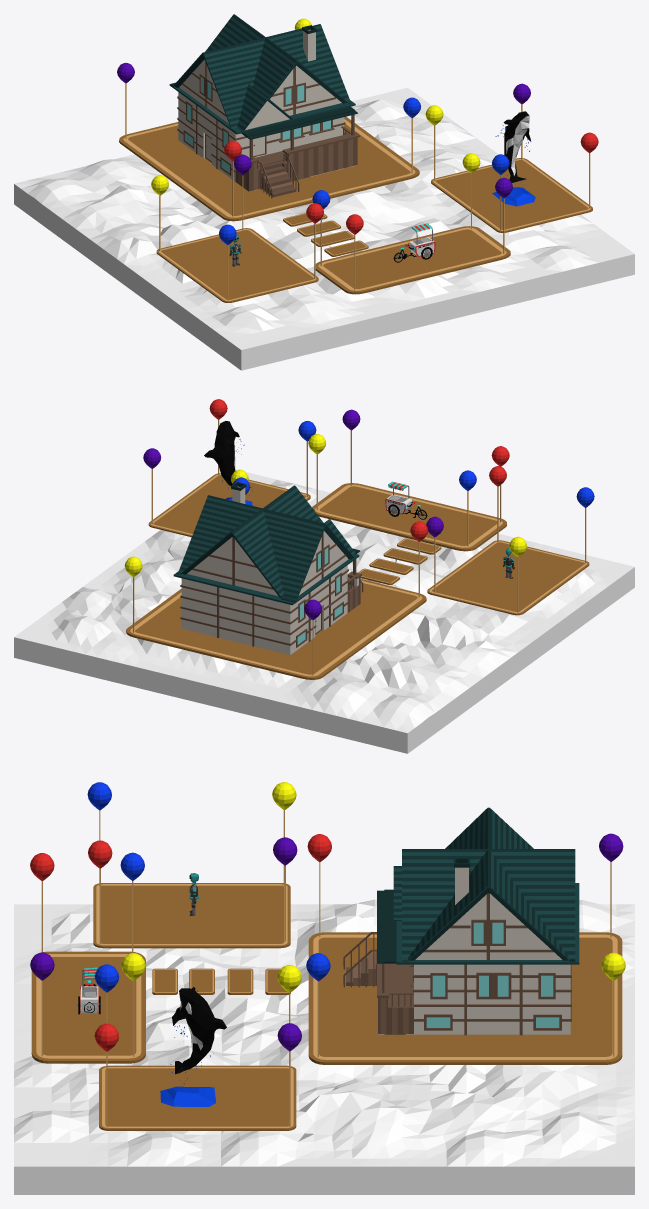
3 views of the same model, one above another, from view 1: azimuth 30°, elevation 25°; view 2: azimuth 150°, elevation 25°; view 3: azimuth 270°, elevation 25° (orthographic). The views are drawn at different scales.
Visible parts, largest first — view 1: Cube.013, Cube.793, ANIMAL_ORCA, VEHICLES_SNOWBAL_BIKE; view 2: Cube.013, Cube.793, ANIMAL_ORCA, VEHICLES_SNOWBAL_BIKE; view 3: Cube.013, Cube.793, ANIMAL_ORCA, VEHICLES_SNOWBAL_BIKE.
Part boxes in pixels (bbox=[...]): Cube.013: bbox=[14, 18, 634, 370]; Cube.793: bbox=[169, 14, 360, 198]; ANIMAL_ORCA: bbox=[492, 111, 535, 206]; VEHICLES_SNOWBAL_BIKE: bbox=[393, 223, 435, 262]; Cube.013: bbox=[14, 399, 634, 753]; Cube.793: bbox=[173, 482, 363, 654]; ANIMAL_ORCA: bbox=[204, 421, 252, 505]; VEHICLES_SNOWBAL_BIKE: bbox=[385, 481, 427, 519]; Cube.013: bbox=[14, 782, 634, 1194]; Cube.793: bbox=[343, 807, 579, 1035]; ANIMAL_ORCA: bbox=[160, 987, 226, 1106]; VEHICLES_SNOWBAL_BIKE: bbox=[77, 967, 101, 1014].
Size of the model in its own units: 4000 by 1789 by 4000.
Materials: 28 (2 with a texture image).
